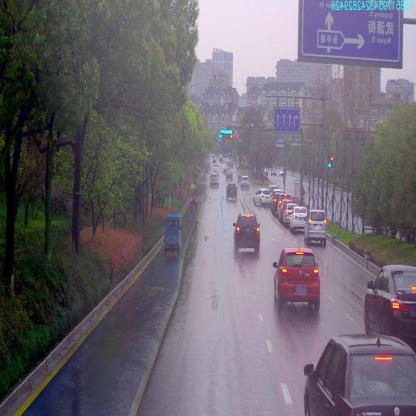traffic-light: (220, 128, 232, 134), (219, 134, 227, 140), (228, 134, 234, 139)
